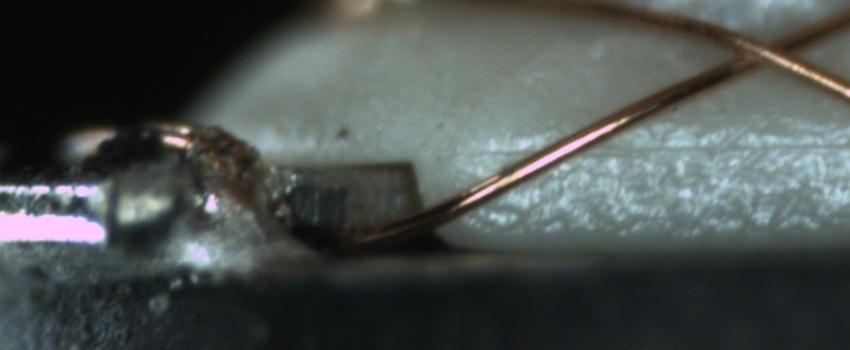CL: (719, 19, 823, 79)
DL: (473, 117, 849, 181)
TE: (57, 118, 263, 160)
